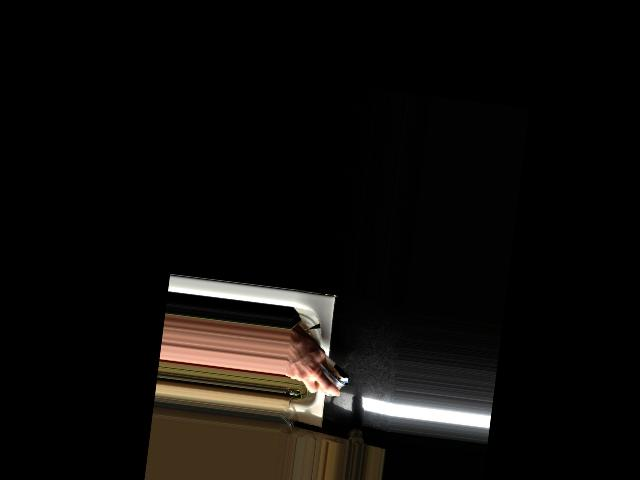cheese: (286, 341, 355, 395)
